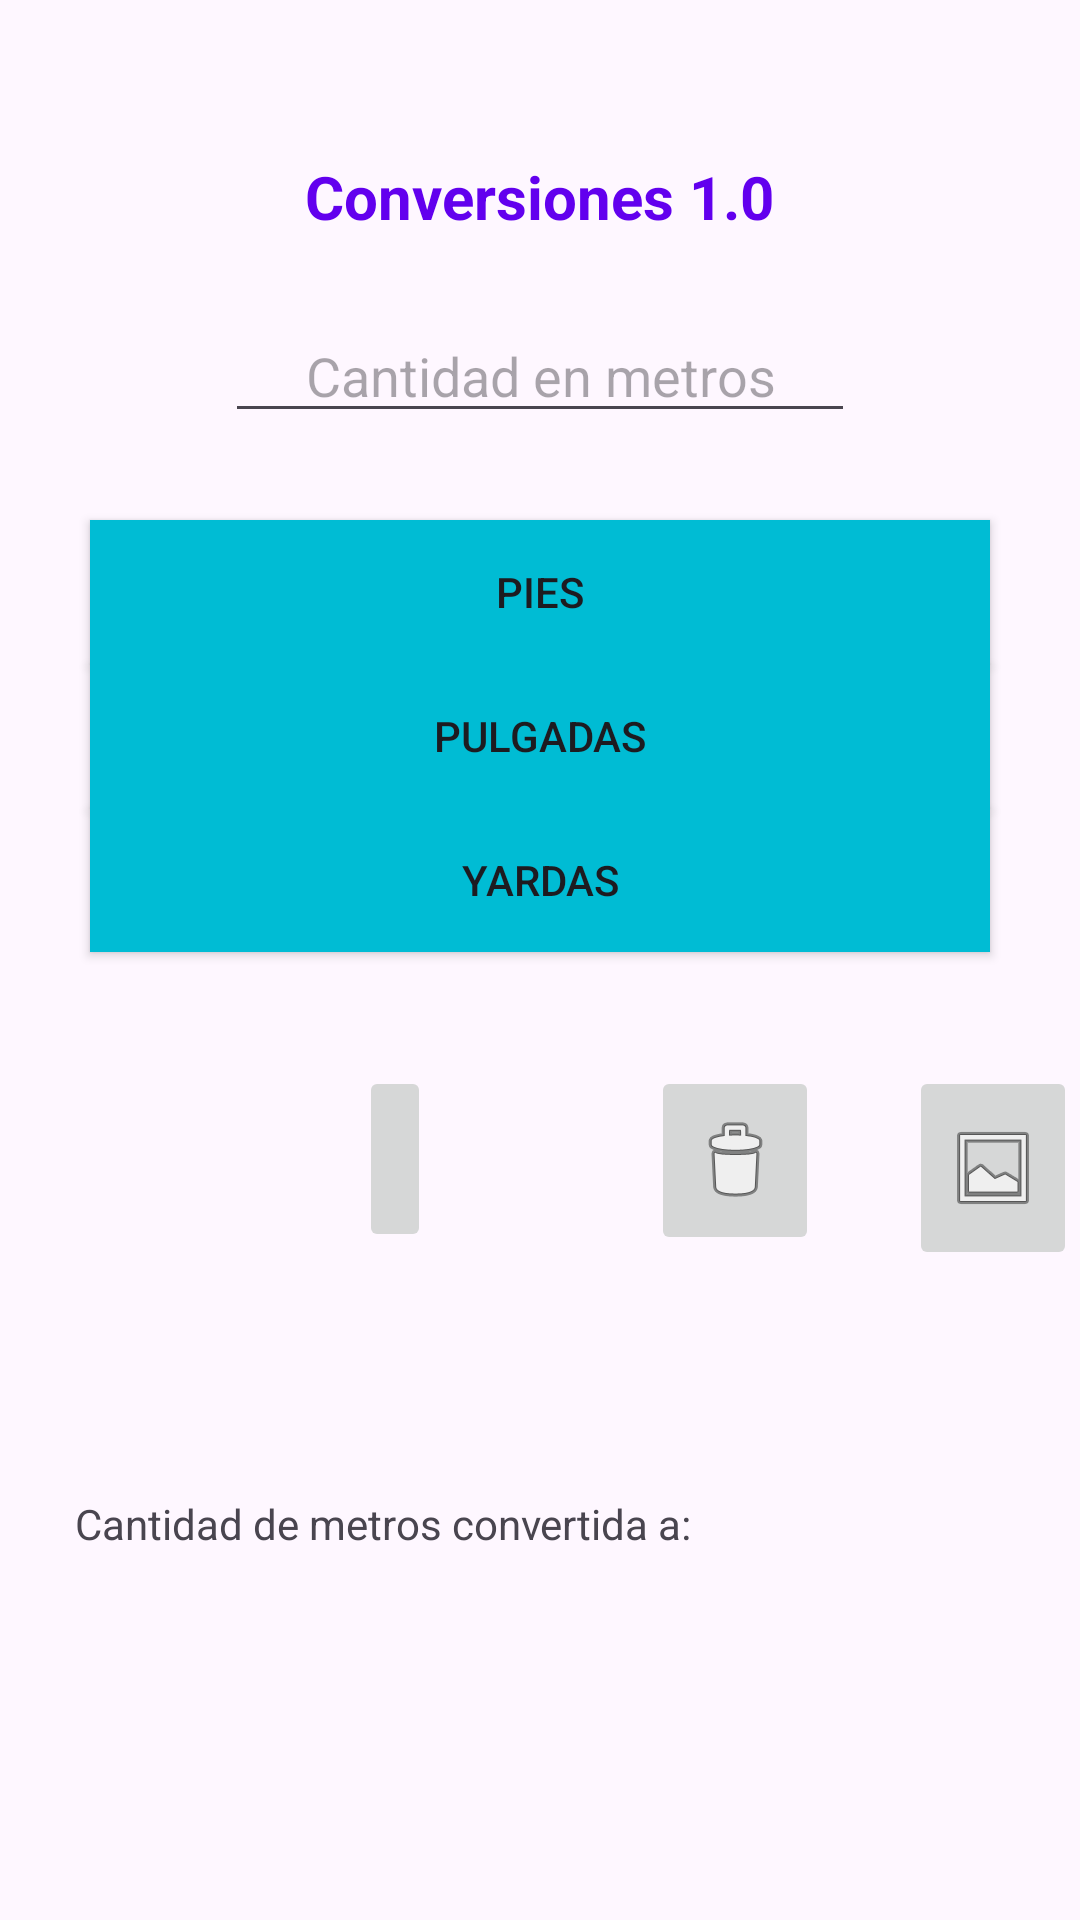

Named icons in this screenshot (1080px×1920px) and their bounding boxes, (x1, y1, x2, y2):
delete: (663, 1084, 807, 1237)
gallery: (921, 1084, 1065, 1252)
